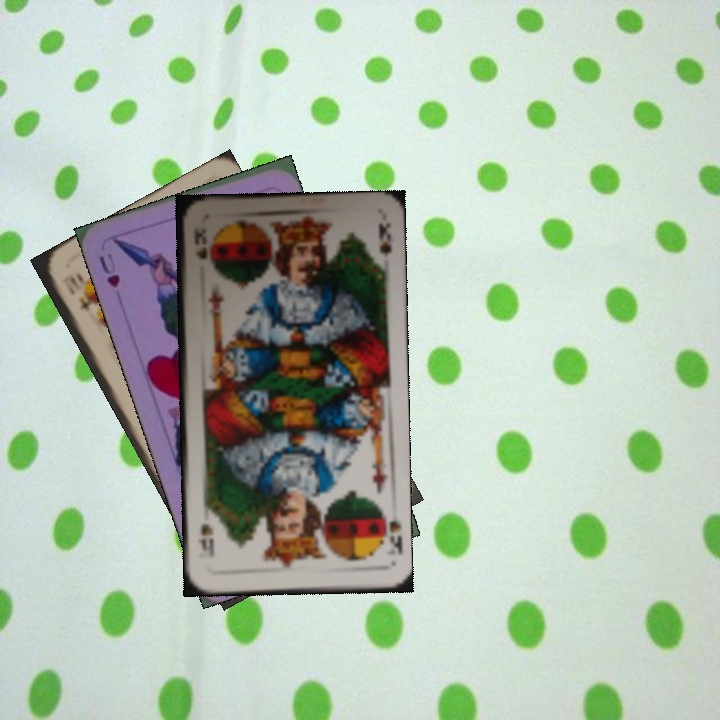E10: (58, 271, 93, 315)
HU: (94, 249, 123, 290)
SK: (190, 224, 210, 262), (385, 516, 403, 557)
